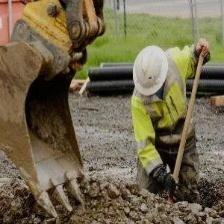Person: (136, 34, 212, 190)
helmet: (133, 42, 169, 98)
vest: (134, 40, 198, 177)
